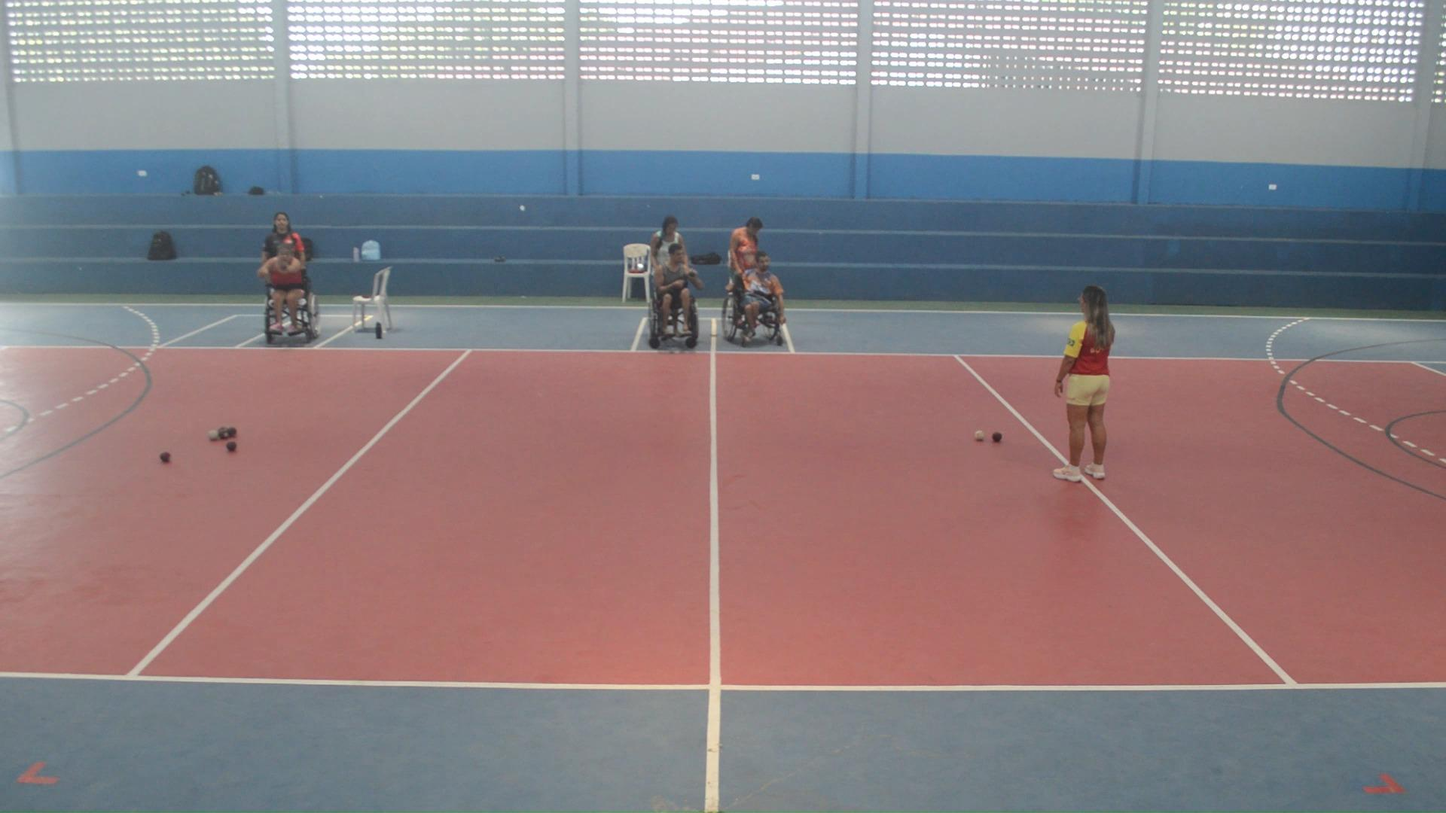red_ball: (991, 431, 1003, 442)
white_ball: (974, 430, 985, 441)
